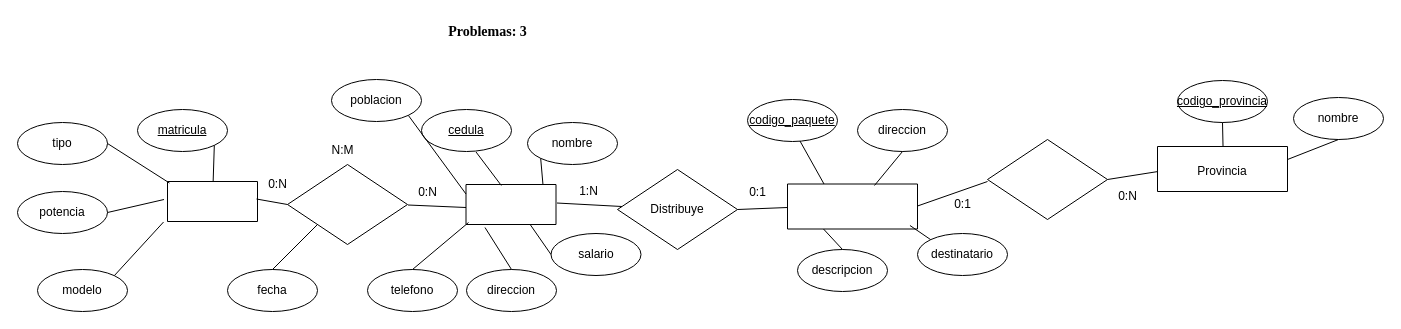
This 1401x329 diagram has some shape labels left out. Here are the shapes that lost their labels. From the top down, the centre of each, then its label:
At (1047,179): "Llegar".
At (212,201): "Camion".
At (347,204): "Conducir".
At (510,204): "Camionero".
At (852,206): "Paquete".
